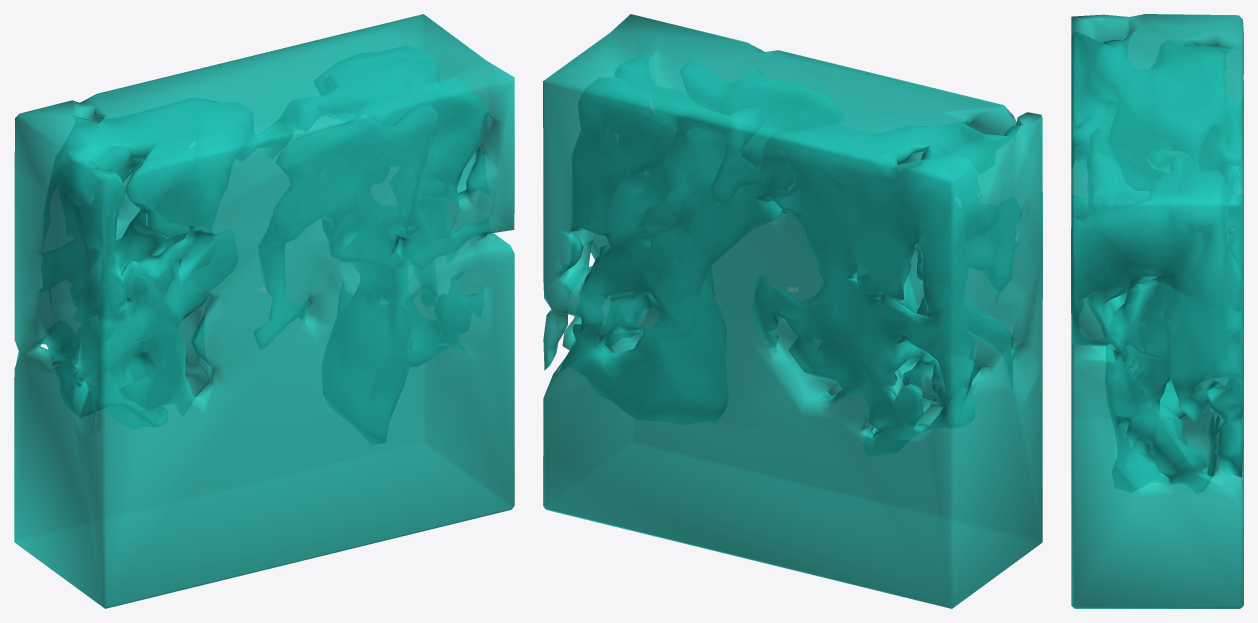
3 views of the same model, side by side, from view 1: azimuth 30°, elevation 25°; view 2: azimuth 150°, elevation 25°; view 3: azimuth 270°, elevation 25° (orthographic). The views are drawn at different scales.
Parts seen in each view (by area): view 1: Liquid_Domain; view 2: Liquid_Domain; view 3: Liquid_Domain.
Boxes of the visible parts, x1,y1,x2,y2 form: Liquid_Domain: [14, 14, 514, 608]; Liquid_Domain: [543, 14, 1042, 608]; Liquid_Domain: [1071, 14, 1243, 608].
Size of the model in its own units: 1948 by 1948 by 749.
